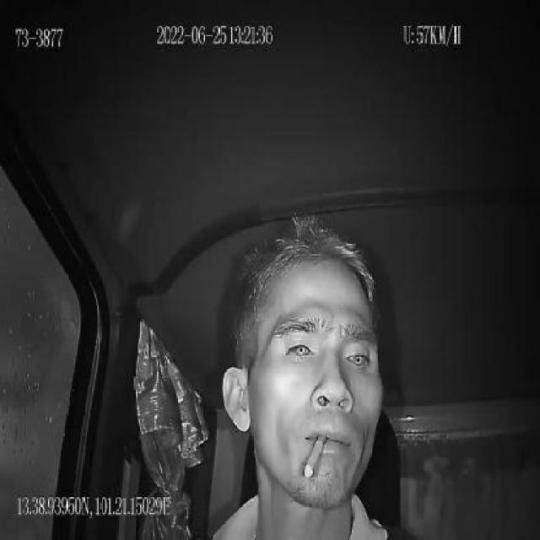smoking: (302, 430, 327, 481)
